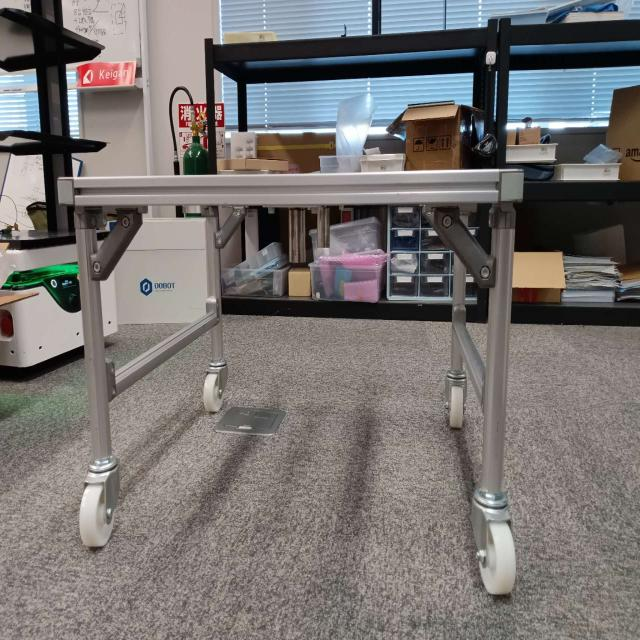door: (73, 169, 510, 293)
